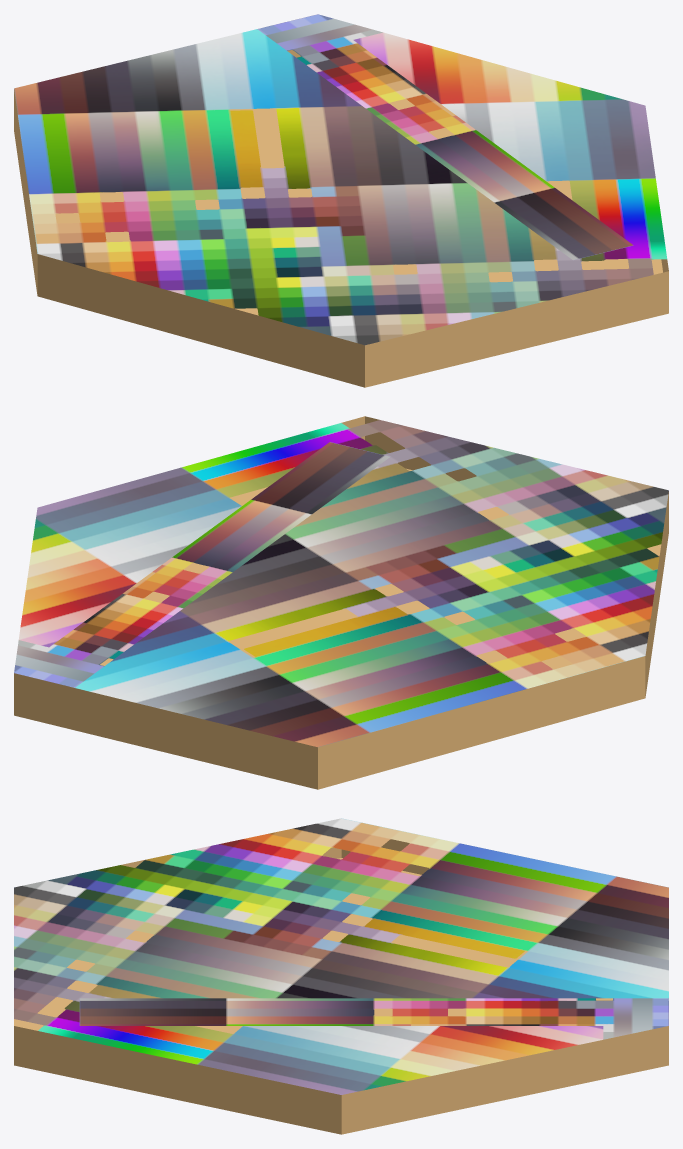
The model's file is Village9.fbx.
The picture shows the model from 3 angles, top to bottom: view 1: azimuth 30°, elevation 25°; view 2: azimuth 150°, elevation 25°; view 3: azimuth 270°, elevation 25°; orthographic projection. The views are drawn at different scales.
Parts seen in each view (by area): view 1: Village9; view 2: Village9; view 3: Village9.
Boxes of the visible parts, <box> form: Village9: <box>14,14,668,387</box>; Village9: <box>14,416,668,789</box>; Village9: <box>14,818,668,1134</box>.
Bounding box in the file's own units: 1500 × 100 × 1500.
